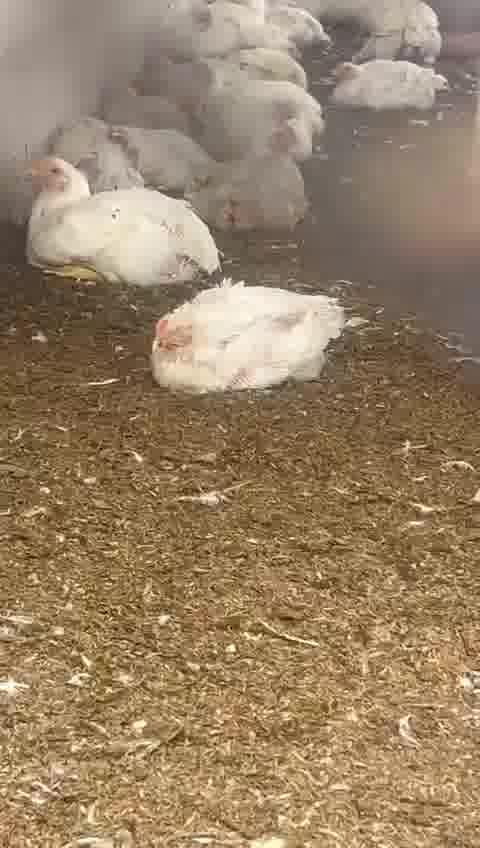AbNormal: (132, 265, 362, 410), (44, 107, 200, 185), (107, 71, 207, 135), (140, 50, 243, 96)
Normal: (5, 145, 220, 302), (197, 129, 315, 231), (219, 68, 345, 155), (324, 57, 470, 114)
